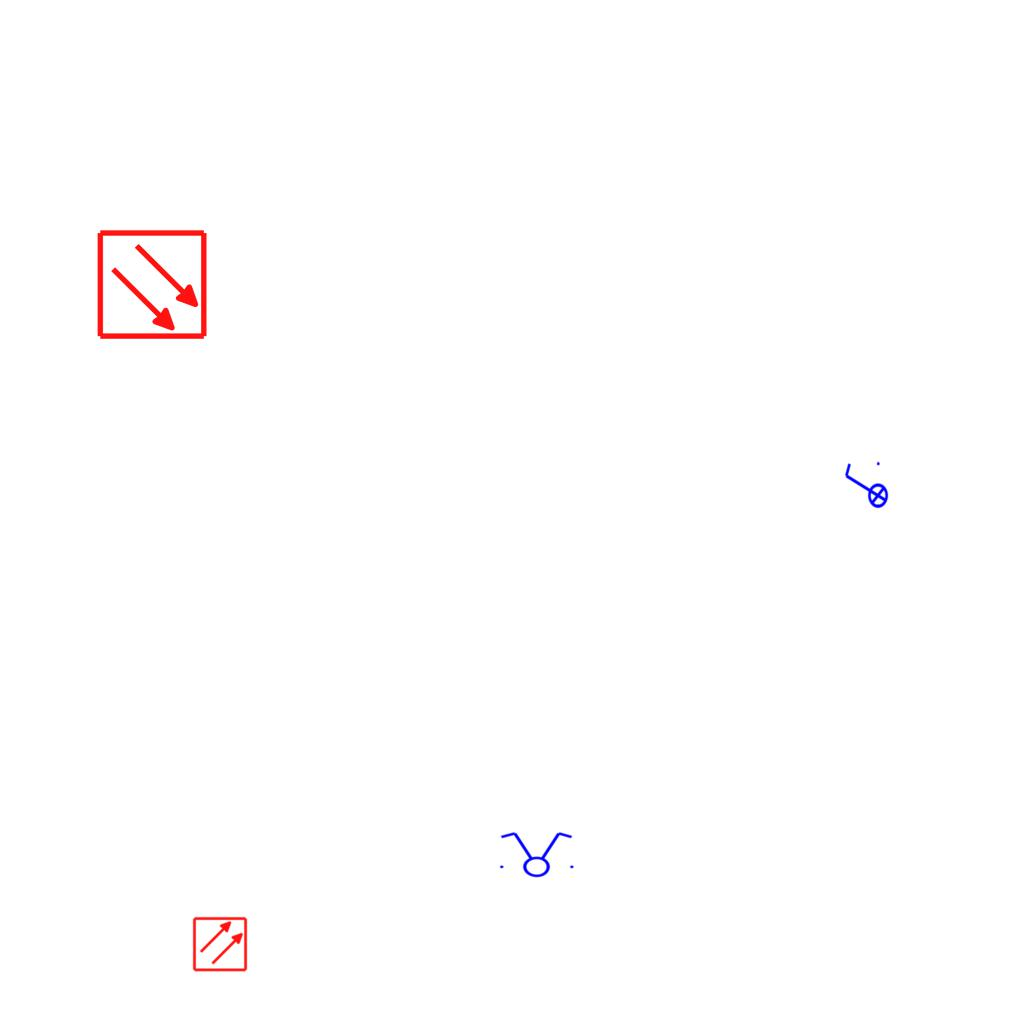Ausschalter_beleuchtet: (841, 459, 889, 515)
RMO_Rauchmelder_optischer: (96, 228, 209, 341), (192, 916, 248, 972)
Serienschalter: (494, 830, 578, 878)
